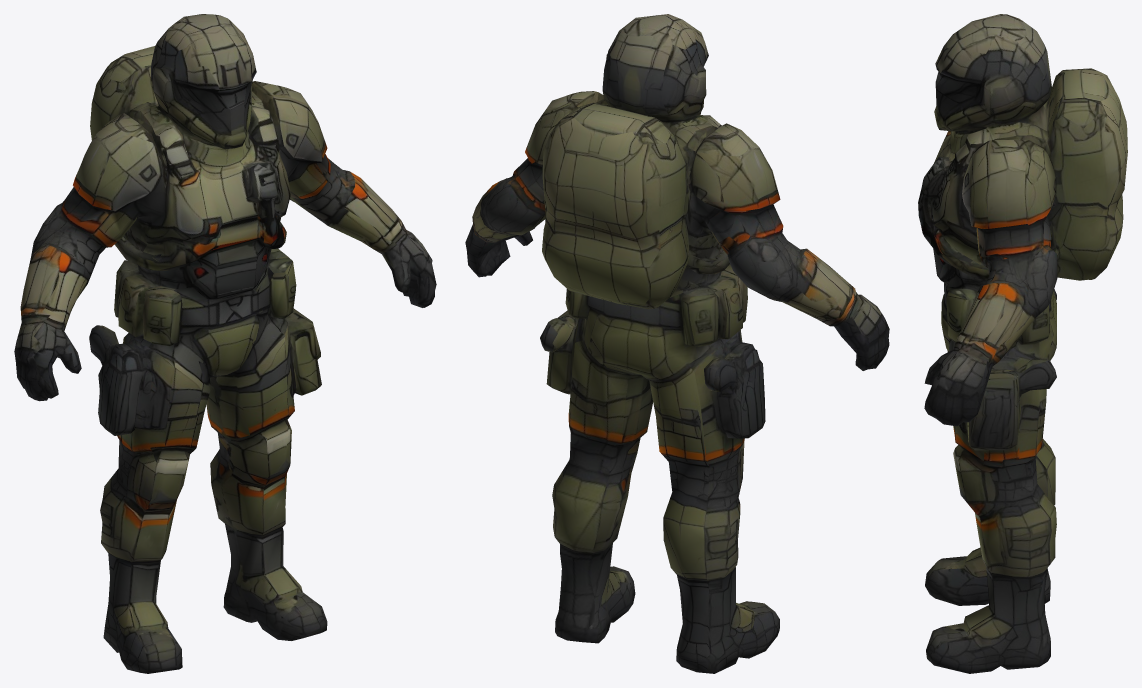
The model's file is infantry-candidate-lod0.glb.
3 views of the same model, side by side, from view 1: azimuth 30°, elevation 25°; view 2: azimuth 150°, elevation 25°; view 3: azimuth 270°, elevation 25° (orthographic).
Parts seen in each view (by area): view 1: Candidate_LOD0; view 2: Candidate_LOD0; view 3: Candidate_LOD0.
Part boxes in pixels (box(x1,y1,x2,y2)): Candidate_LOD0: box(14, 14, 436, 673); Candidate_LOD0: box(465, 14, 889, 673); Candidate_LOD0: box(918, 14, 1127, 673).
Size of the model in its own units: 0.3323 by 0.4797 by 0.1497.
1 material, 1 textured.
